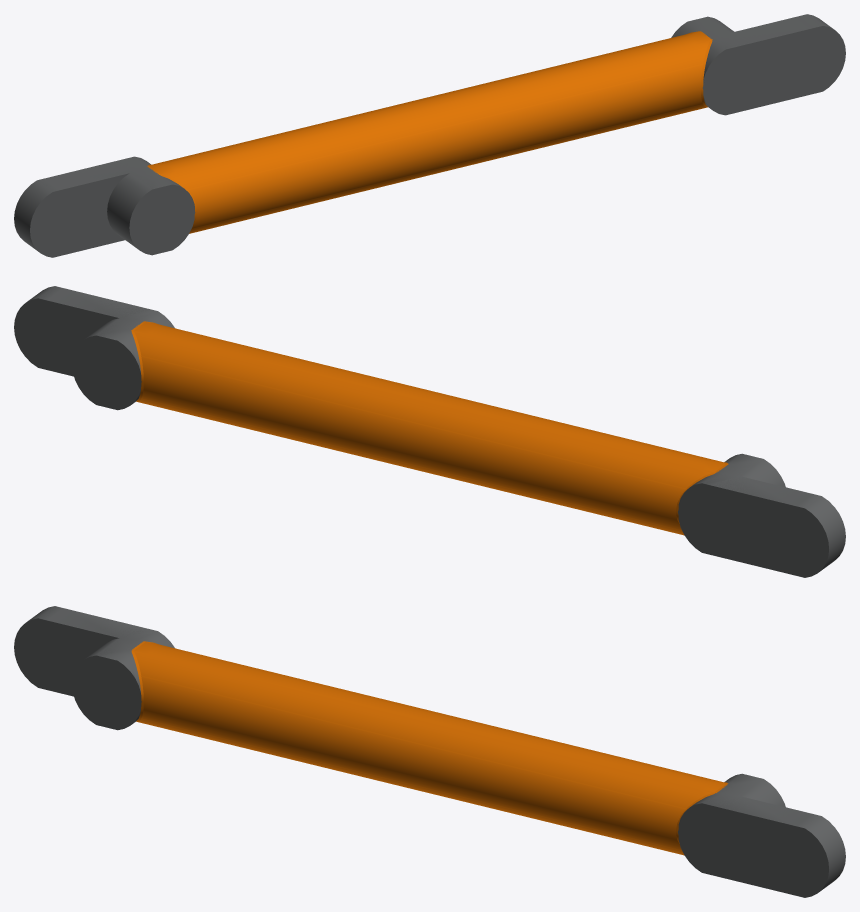
3 renders of one model, top to bottom at view 1: azimuth 30°, elevation 25°; view 2: azimuth 150°, elevation 25°; view 3: azimuth 330°, elevation 25°, orthographic. The views are drawn at different scales.
Parts seen in each view (by area): view 1: h3_LOD0, h3_col; view 2: h3_LOD0, h3_col; view 3: h3_LOD0, h3_col.
Boxes of the visible parts, box(x1,y1,x2,y2) form: h3_LOD0: box(14, 14, 845, 257); h3_col: box(30, 14, 845, 256); h3_LOD0: box(14, 286, 845, 577); h3_col: box(14, 288, 828, 577); h3_LOD0: box(14, 606, 845, 897); h3_col: box(14, 606, 825, 897).
Size of what is drawn, in the model's own units: 144 by 11.93 by 12.
